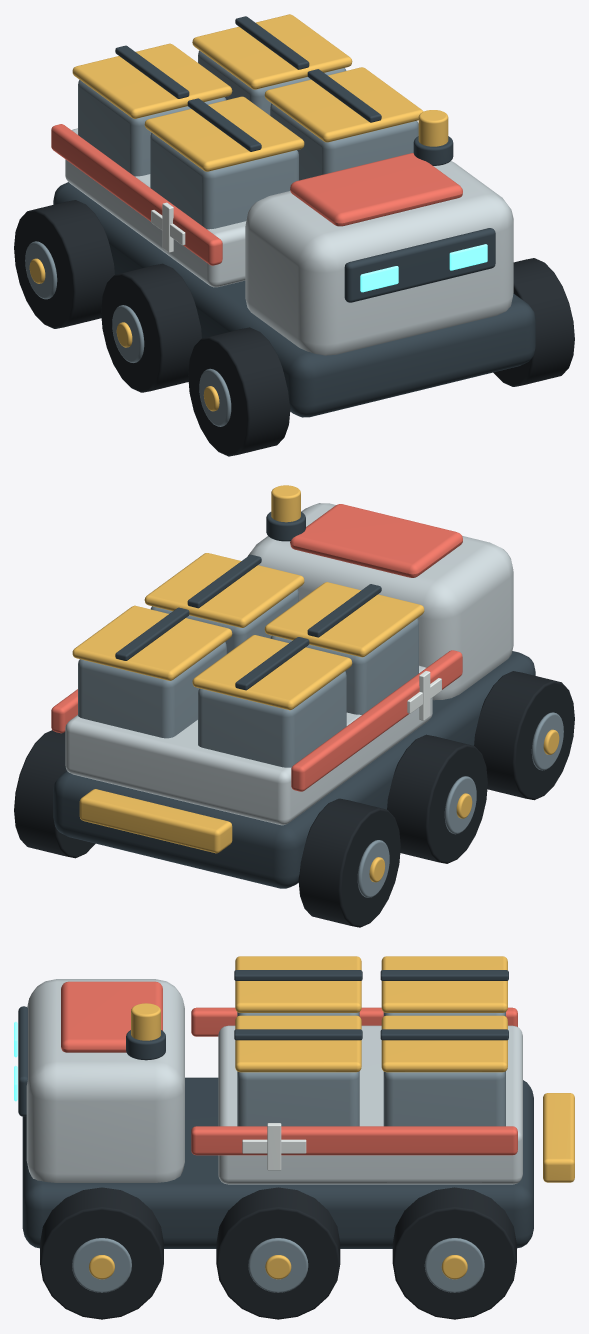
Rendered from support.fbx.
3 renders of one model, top to bottom at view 1: azimuth 30°, elevation 25°; view 2: azimuth 150°, elevation 25°; view 3: azimuth 270°, elevation 25°, orthographic.
Parts seen in each view (by area): view 1: Autonomous cab, Service chassis, All terrain tyre, All terrain tyre.001, All terrain tyre.002, Modular supply case, Cab team roof, Service case lid, Service case lid.002, Service case lid.003, Service case lid.001, All terrain tyre.003 (+17 smaller); view 2: Service chassis, Supply deck, Autonomous cab, All terrain tyre.002, All terrain tyre.001, All terrain tyre, Modular supply case.001, Cab team roof, Modular supply case.003, Service case lid.003, Service case lid.001, Service case lid (+16 smaller); view 3: Autonomous cab, Service chassis, Supply deck, All terrain tyre.005, All terrain tyre.004, All terrain tyre.003, Team side rail.001, Modular supply case.003, Modular supply case.002, Service case lid.002, Service case lid.003, Service case lid (+19 smaller).
Boxes of the visible parts, <box> form: Autonomous cab: <box>245,161,513,355</box>; Service chassis: <box>53,182,535,417</box>; All terrain tyre: <box>188,327,290,456</box>; All terrain tyre.001: <box>101,263,201,392</box>; All terrain tyre.002: <box>14,200,114,328</box>; Modular supply case: <box>150,133,298,229</box>; Cab team roof: <box>290,153,462,226</box>; Service case lid: <box>144,96,304,171</box>; Service case lid.002: <box>264,67,423,142</box>; Service case lid.003: <box>192,14,352,89</box>; Service case lid.001: <box>72,43,232,118</box>; All terrain tyre.003: <box>493,258,574,386</box>; Service chassis: <box>53,651,535,888</box>; Supply deck: <box>65,665,432,825</box>; Autonomous cab: <box>247,503,513,700</box>; All terrain tyre.002: <box>298,798,400,927</box>; All terrain tyre.001: <box>387,734,487,863</box>; All terrain tyre: <box>474,671,574,800</box>; Modular supply case.001: <box>198,671,346,767</box>; Cab team roof: <box>290,504,462,577</box>; Modular supply case.003: <box>78,642,226,738</box>; Service case lid.003: <box>72,605,232,680</box>; Service case lid.001: <box>192,635,352,710</box>; Service case lid: <box>264,582,424,657</box>; Autonomous cab: <box>26,979,184,1182</box>; Service chassis: <box>22,1077,533,1248</box>; Supply deck: <box>218,1025,522,1184</box>; All terrain tyre.005: <box>392,1187,516,1319</box>; All terrain tyre.004: <box>216,1187,340,1319</box>; All terrain tyre.003: <box>40,1187,163,1319</box>; Team side rail.001: <box>191,1126,517,1155</box>; Modular supply case.003: <box>383,1071,505,1126</box>; Modular supply case.002: <box>237,1071,359,1126</box>; Service case lid.002: <box>235,1015,361,1072</box>; Service case lid.003: <box>381,1015,507,1072</box>; Service case lid: <box>235,956,361,1012</box>.
Bounding box in the file's own units: 201 × 147 × 280.
